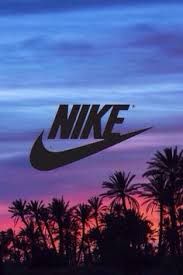nike: (25, 123, 157, 174)
